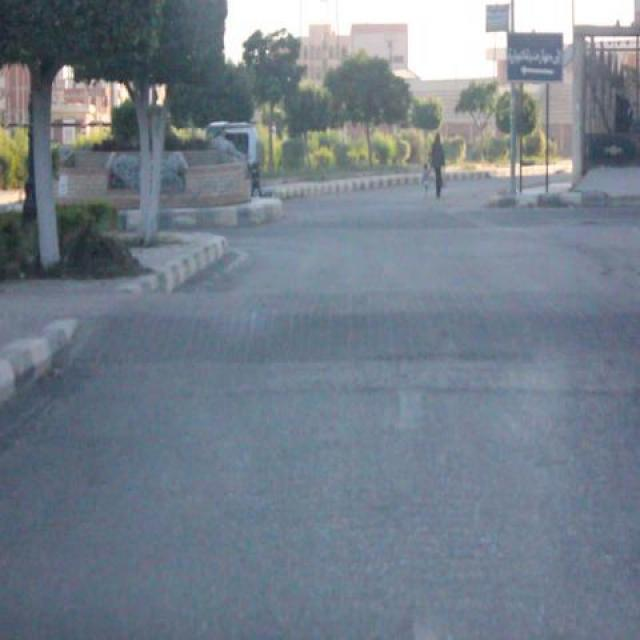Unmarked Bump: (69, 284, 639, 369)
